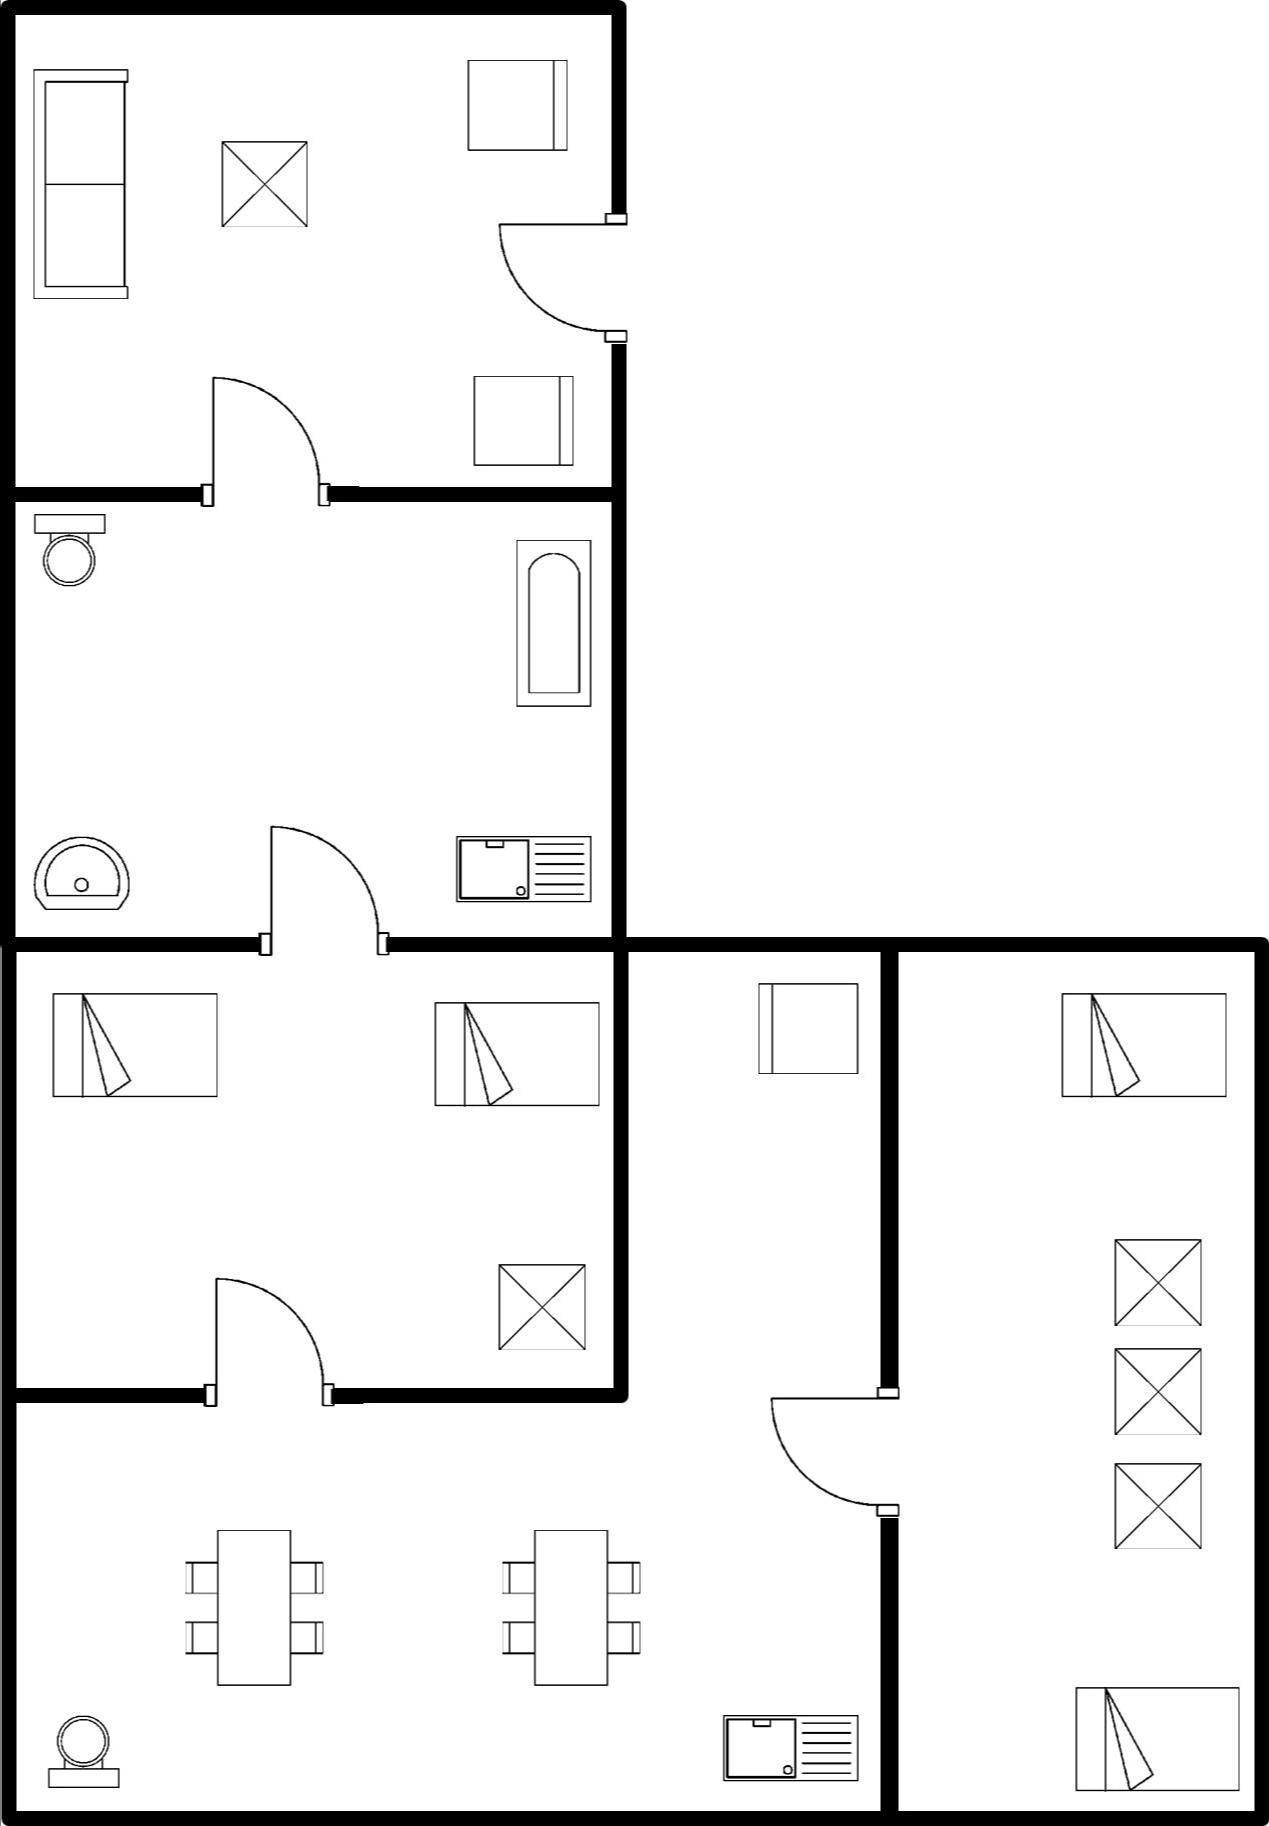bed: (37, 981, 230, 1116), (416, 989, 605, 1123), (1055, 1671, 1245, 1801), (1046, 981, 1234, 1110)
dining_table: (483, 1522, 650, 1701), (171, 1517, 331, 1698)
sink: (710, 1698, 865, 1795), (441, 824, 594, 914)
sofa: (21, 58, 135, 309)
toilet: (32, 1703, 130, 1800), (25, 504, 112, 597)
tub: (501, 531, 603, 715)
